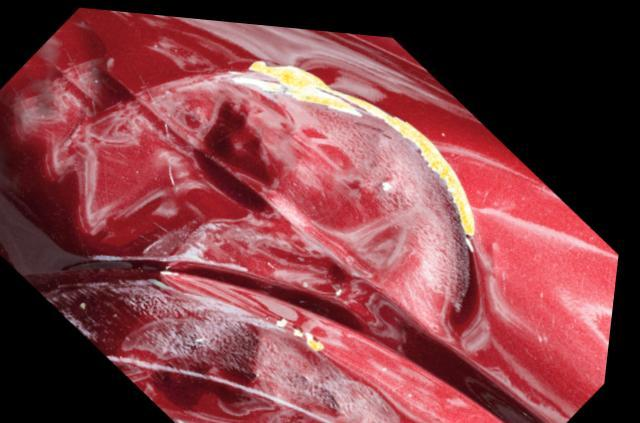dent: (10, 18, 503, 423)
